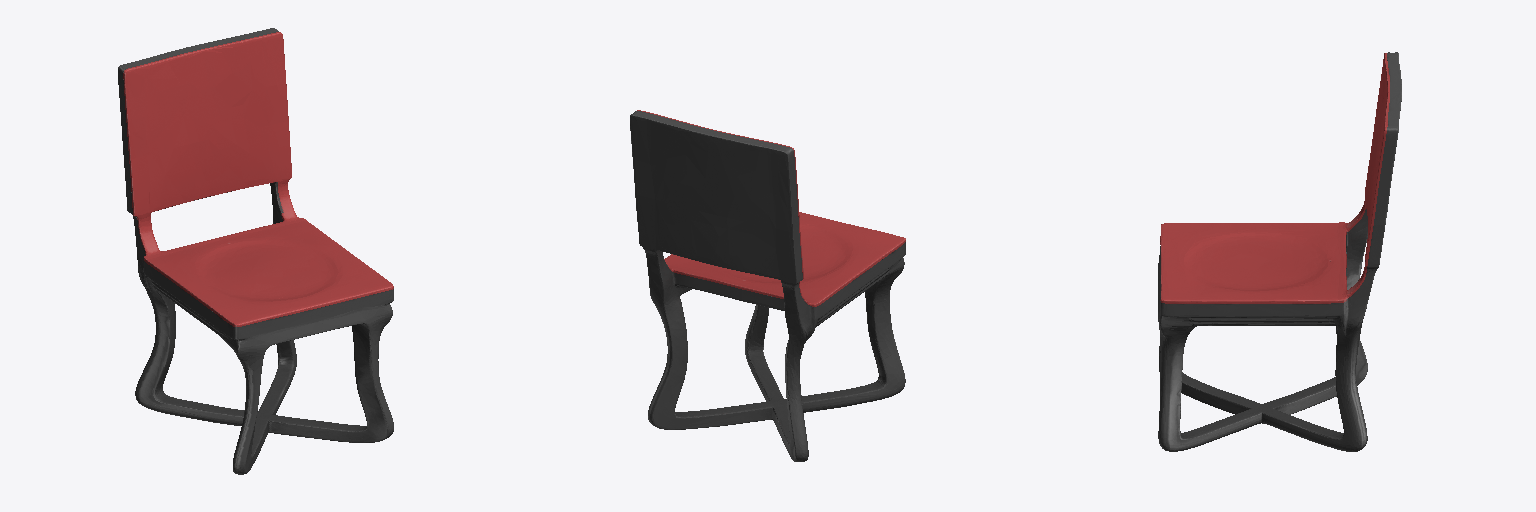
3 renders of one model, left to right at view 1: azimuth 30°, elevation 25°; view 2: azimuth 150°, elevation 25°; view 3: azimuth 270°, elevation 25°, orthographic.
Parts seen in each view (by area): view 1: solid_002, solid_001; view 2: solid_001, solid_002; view 3: solid_001, solid_002.
Boxes of the visible parts, x1=… form: solid_002: x1=123, y1=32, x2=393, y2=326; solid_001: x1=118, y1=28, x2=393, y2=474; solid_001: x1=630, y1=111, x2=905, y2=461; solid_002: x1=637, y1=110, x2=905, y2=306; solid_001: x1=1158, y1=52, x2=1401, y2=451; solid_002: x1=1160, y1=53, x2=1389, y2=303.
Bounding box in the file's own units: 0.4171 × 0.8182 × 0.5444.
1 materials, 1 textured.